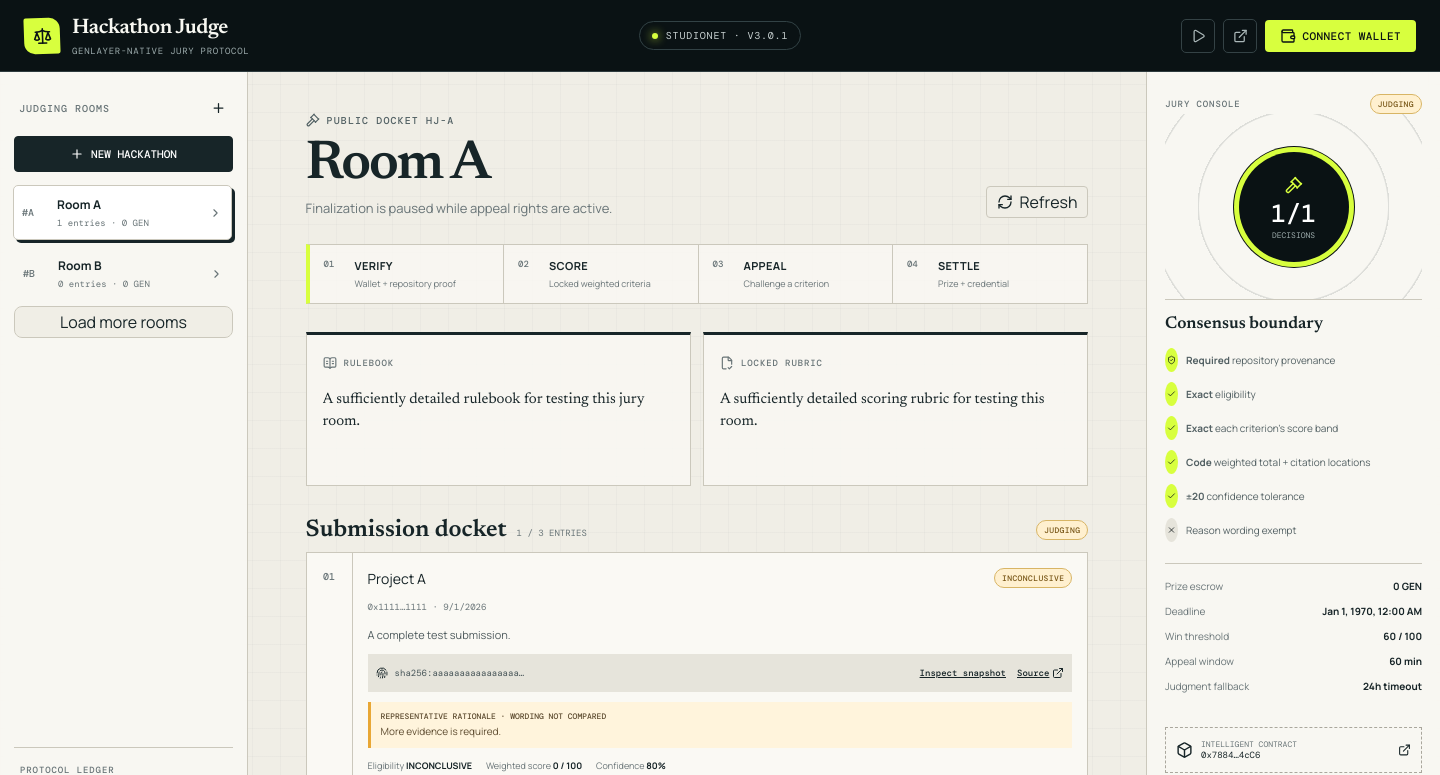
Test: room and transaction safety › loads additional room pages
The width and height of the screenshot is (1440, 775).
Expected: the heading "Room A" is shown, [306, 138, 489, 193]
Click the button "Load more rooms" at (124, 322), box [14, 306, 233, 338]
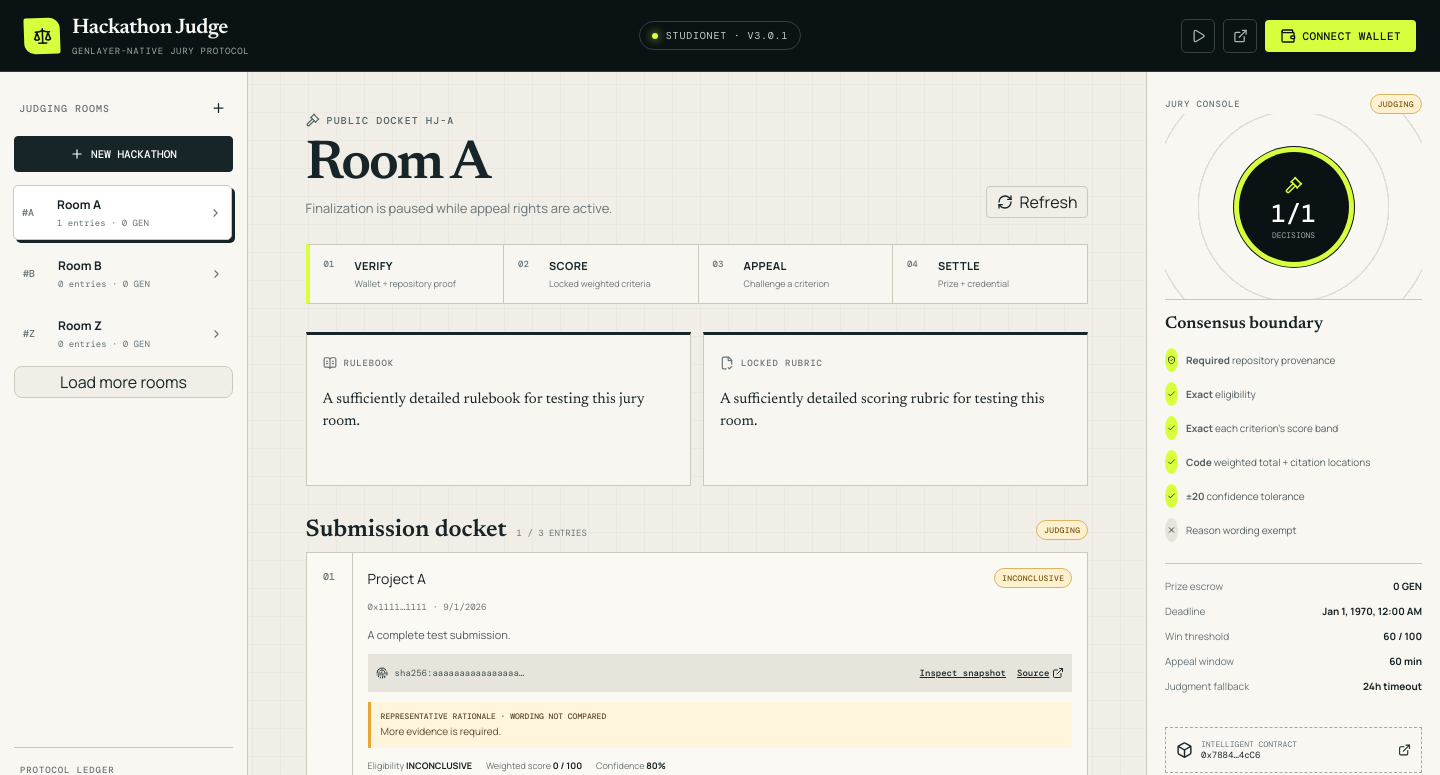
Expected: the button "#Z Room Z 0 entries · 0 GEN" is shown, [14, 306, 233, 361]
